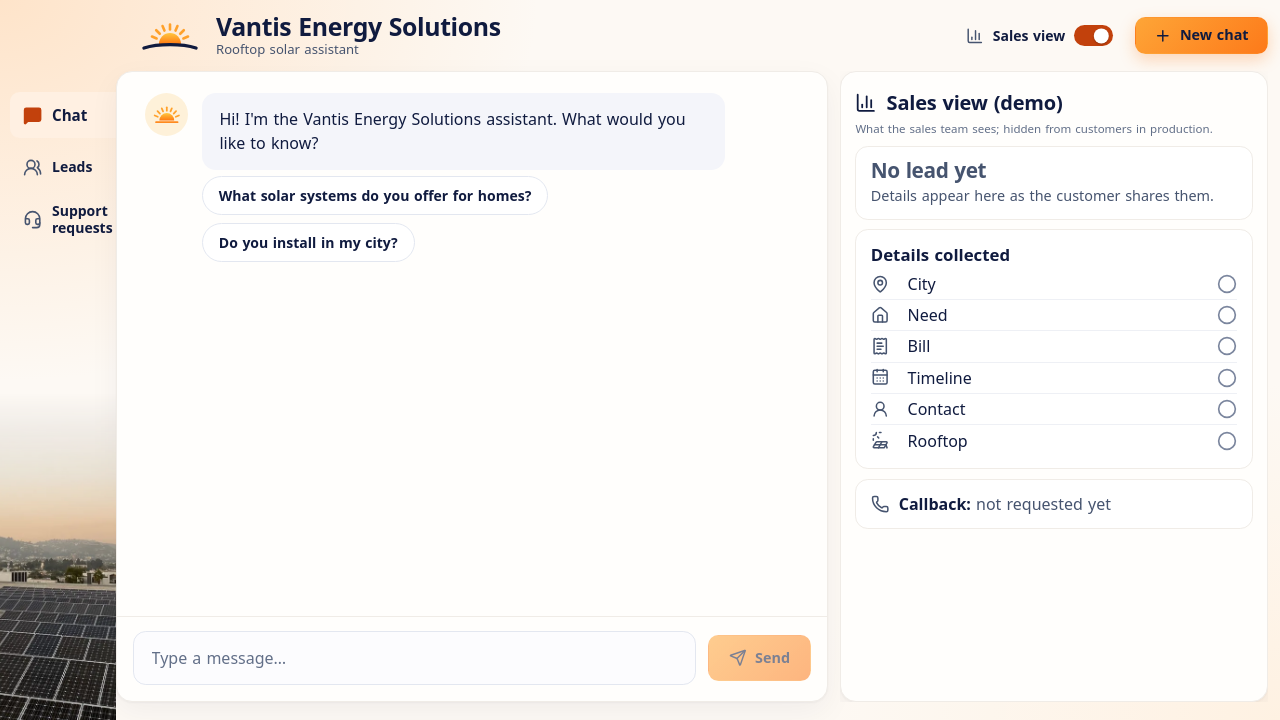
Test: errors › 422 on session_id: the next message starts a new chat
This screenshot has width=1280, height=720.
Expected: the text "Hi! I'm the Vantis Energy Solutions assistant. What would you like to know?" is shown, [219,107,707,155]
Type "Hello" into the text box named "Your message".
click(415, 658); type("Hello")  # box [152,643,678,673]
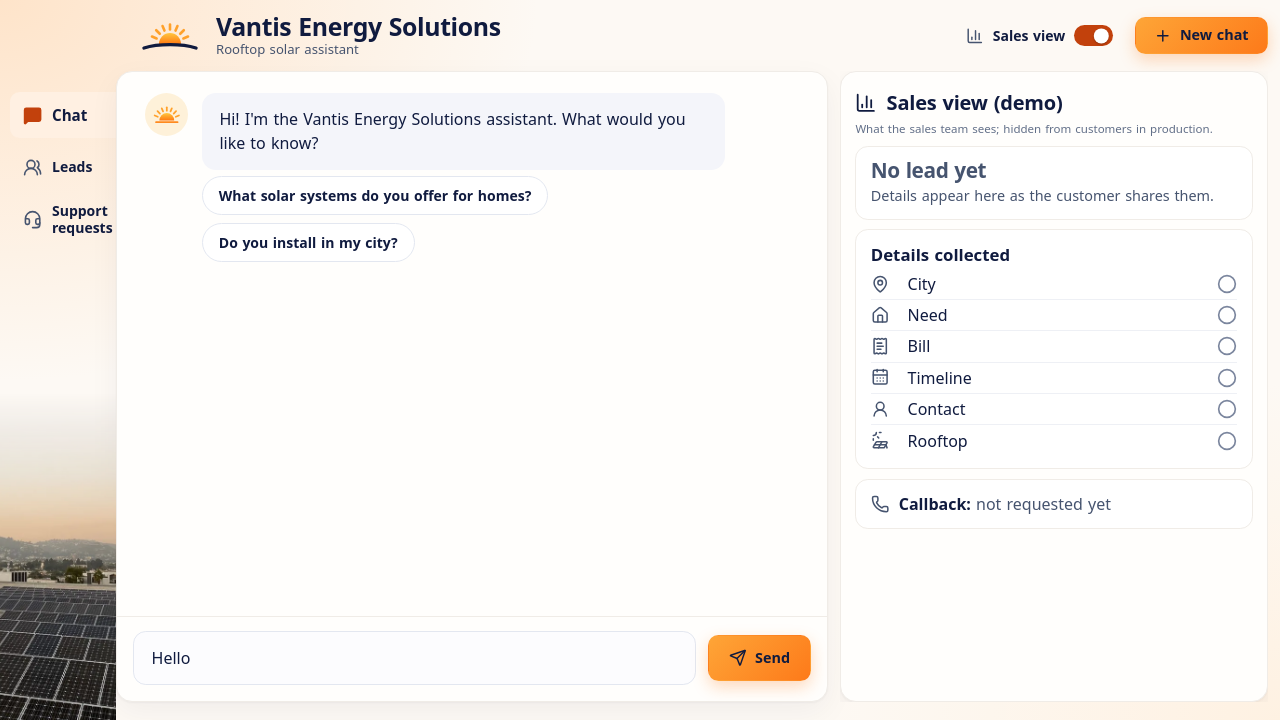
Click the button "Send".
click(760, 658)  # box [708,635,811,681]
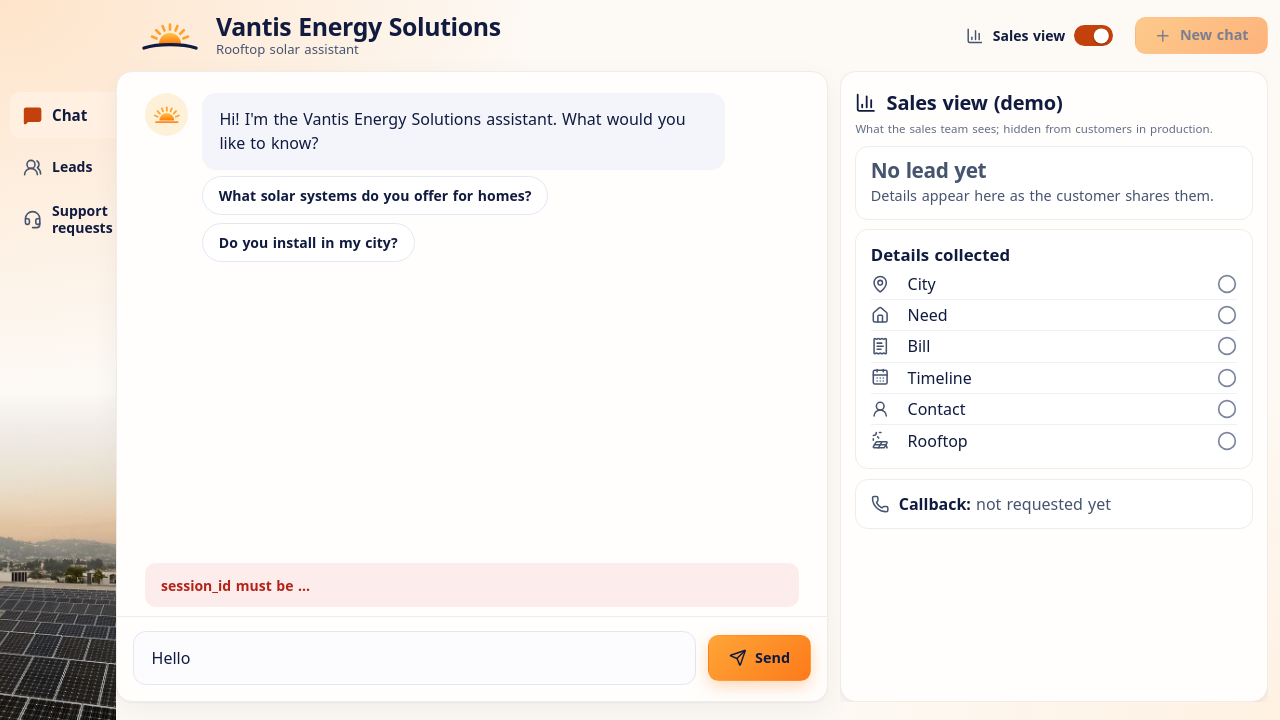
Now the message "session_id must be ..." is shown, box [145,564,799,607]
Click the button "Send".
click(760, 658)  # box [708,635,811,681]
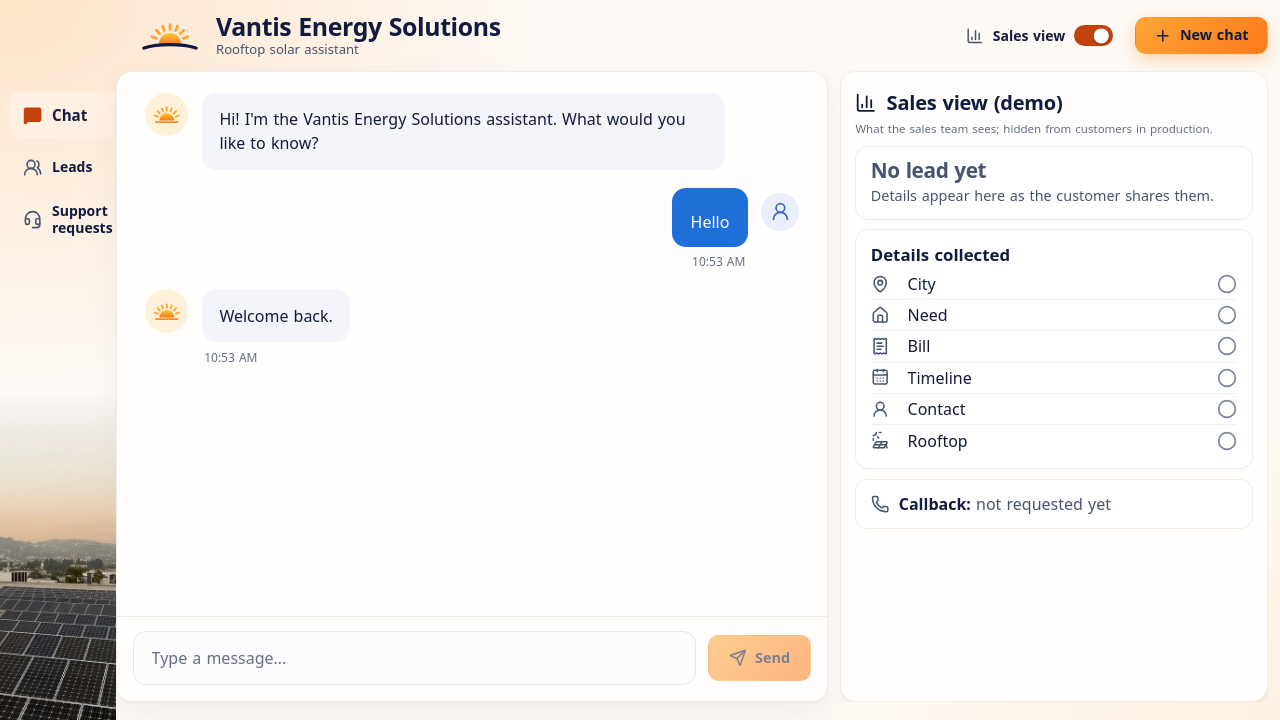
Now the text "Welcome back." is shown, box [219,304,333,328]
